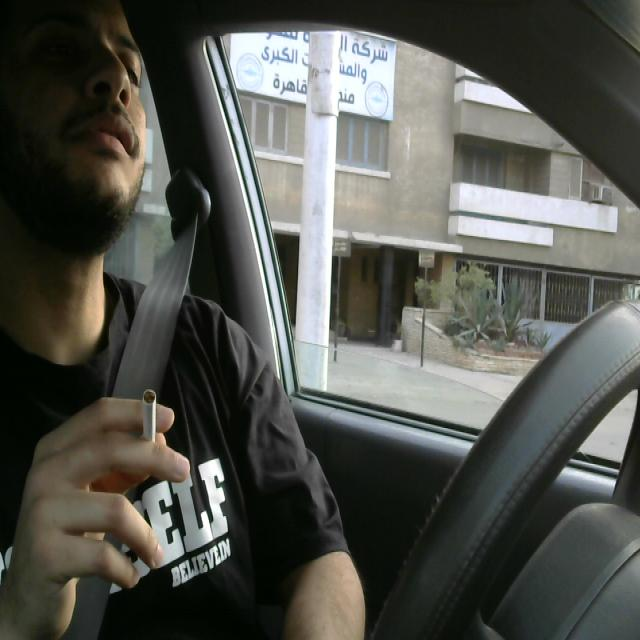smoking: (129, 384, 168, 492)
